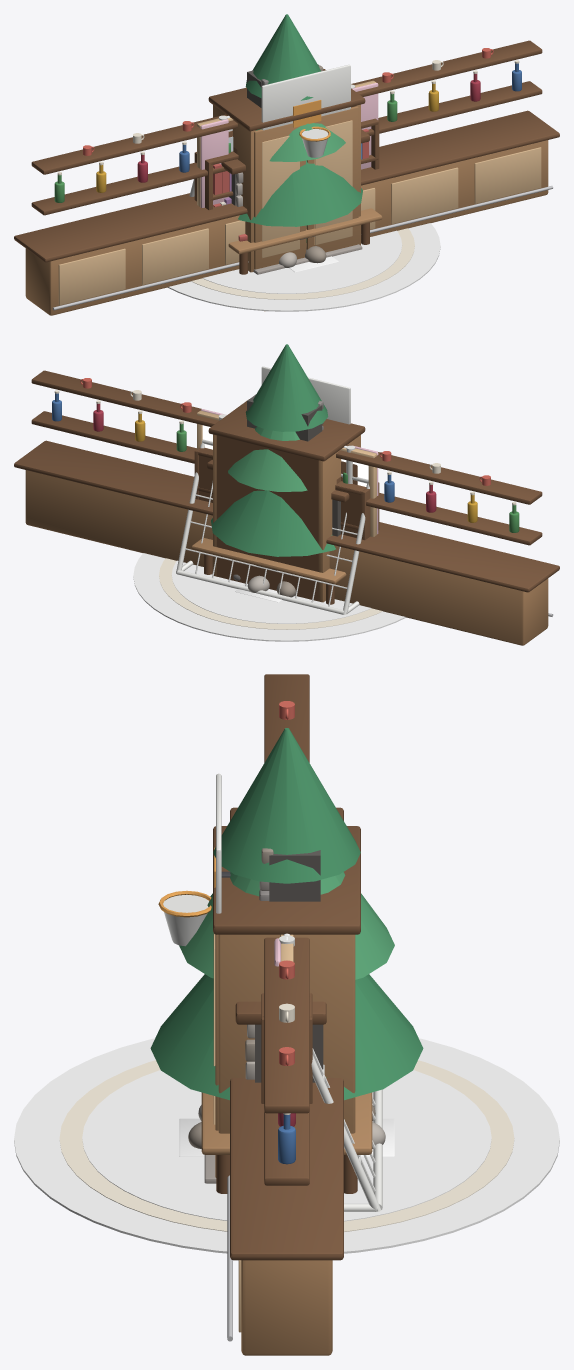
The model's file is props.glb.
3 renders of one model, top to bottom at view 1: azimuth 30°, elevation 25°; view 2: azimuth 150°, elevation 25°; view 3: azimuth 270°, elevation 25°, orthographic. The views are drawn at different scales.
Parts seen in each view (by area): view 1: Counter, Shelf, Rug, Tree, Hoop, Closet, ClosetDoorL, ClosetDoorR, Window, Bookshelf, GameTable, Fireplace (+1 smaller); view 2: Counter, Shelf, Tree, Closet, Rug, Goal, Bookshelf, GameTable, Window, Hoop, Fireplace, Campfire; view 3: Rug, Tree, Counter, Closet, Shelf, Fireplace, GameTable, Hoop, Goal, Mat, ClosetDoorR, Bookshelf.
Part boxes in pixels (<box>): Counter: <box>14,110,559,315</box>; Shelf: <box>31,40,542,215</box>; Rug: <box>168,223,440,311</box>; Tree: <box>238,14,362,226</box>; Hoop: <box>261,64,350,157</box>; Closet: <box>208,69,365,272</box>; ClosetDoorL: <box>254,123,305,269</box>; ClosetDoorR: <box>306,106,358,252</box>; Window: <box>197,80,378,207</box>; Bookshelf: <box>194,118,379,210</box>; GameTable: <box>228,208,382,274</box>; Fireplace: <box>221,64,369,274</box>; Counter: <box>14,440,559,645</box>; Shelf: <box>31,370,542,545</box>; Tree: <box>211,344,335,556</box>; Closet: <box>208,399,365,602</box>; Rug: <box>133,553,405,641</box>; Goal: <box>176,439,369,614</box>; Bookshelf: <box>194,447,379,540</box>; GameTable: <box>191,538,346,604</box>; Window: <box>197,409,378,536</box>; Hoop: <box>261,366,350,424</box>; Fireplace: <box>207,394,349,536</box>; Campfire: <box>233,574,295,597</box>; Rug: <box>14,1038,559,1253</box>; Tree: <box>150,728,423,1100</box>; Counter: <box>227,807,343,1355</box>; Closet: <box>213,826,360,1133</box>; Shelf: <box>264,674,309,1185</box>; Fireplace: <box>204,848,326,1183</box>; GameTable: <box>201,1092,372,1193</box>; Hoop: <box>158,773,230,946</box>; Goal: <box>311,1048,382,1211</box>; Mat: <box>179,1118,394,1156</box>; ClosetDoorR: <box>213,933,218,1177</box>; Bookshelf: <box>261,993,312,1103</box>.
Size of the model in its own units: 9.3 by 5.09 by 4.8.
